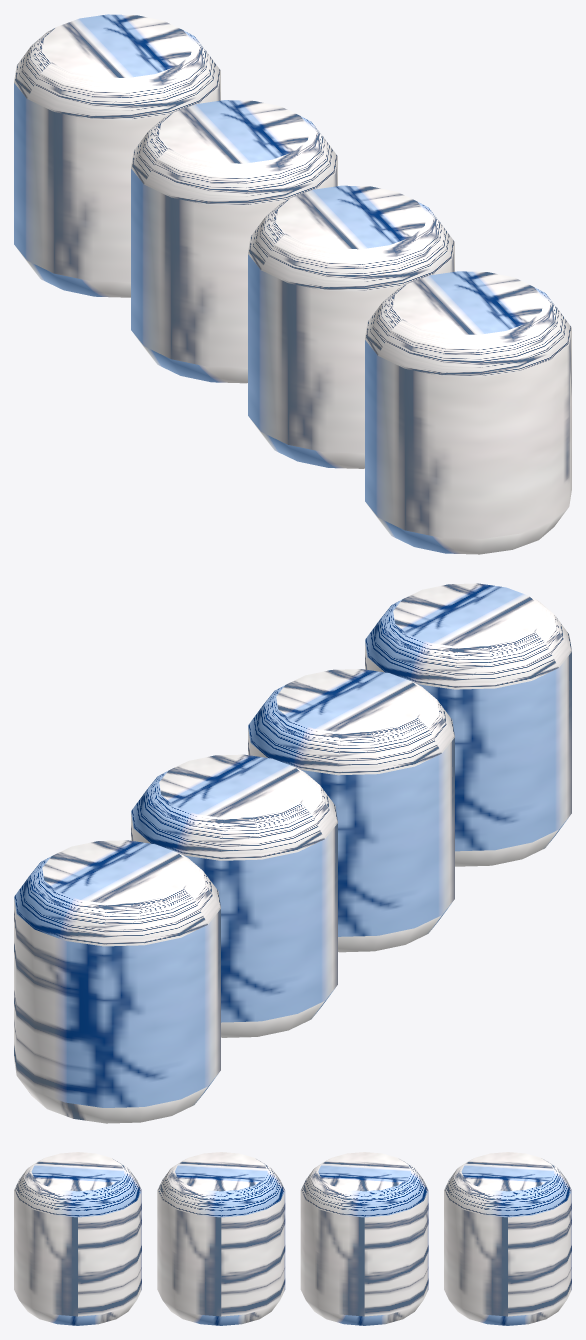
File: Green_Mentos.fbx
The picture shows the model from 3 angles, top to bottom: view 1: azimuth 30°, elevation 25°; view 2: azimuth 150°, elevation 25°; view 3: azimuth 270°, elevation 25°; orthographic projection. The views are drawn at different scales.
Visible parts, largest first — view 1: pCylinder22; view 2: pCylinder22; view 3: pCylinder22.
Boxes of the visible parts, left/top/right/bottom form: pCylinder22: left=14, top=14, right=571, bottom=554; pCylinder22: left=14, top=583, right=571, bottom=1123; pCylinder22: left=14, top=1152, right=571, bottom=1325.
Size of the model in its own units: 8.93 by 10.11 by 38.93.
